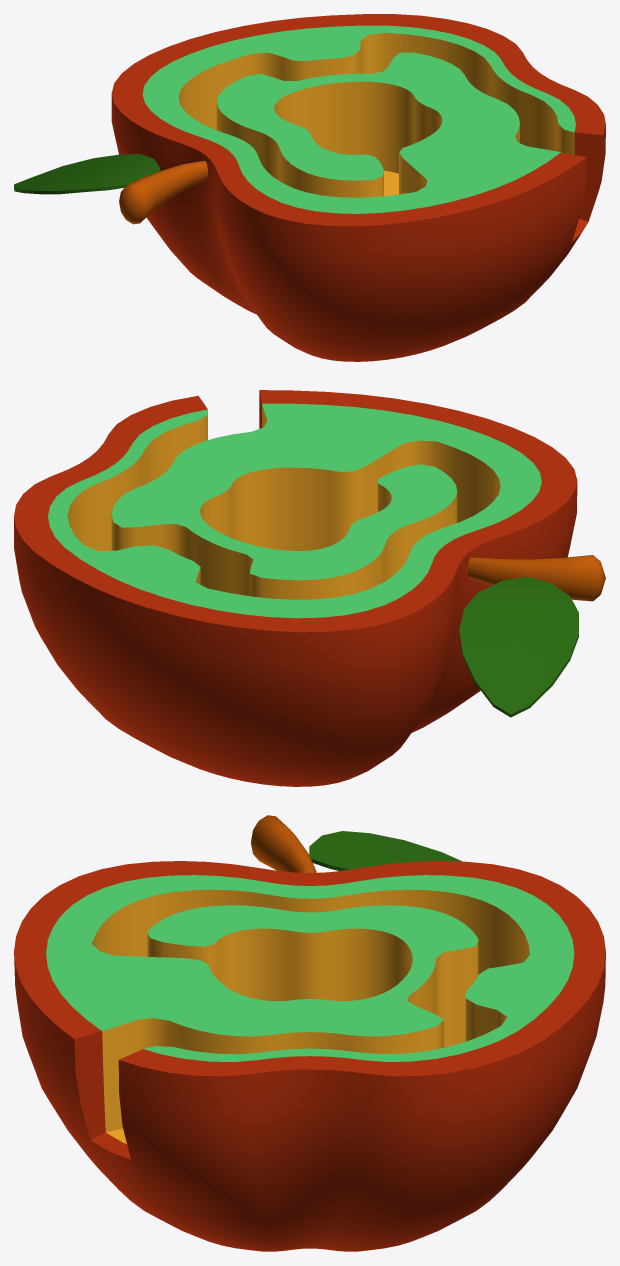
File: apple.FBX
3 views of the same model, one above another, from view 1: azimuth 30°, elevation 25°; view 2: azimuth 150°, elevation 25°; view 3: azimuth 270°, elevation 25° (orthographic). The views are drawn at different scales.
Visible parts, largest first — view 1: Object8259, Object8220, Object8260, Plane001, Line002, Object8258; view 2: Object8259, Object8220, Object8260, Plane001, Line002; view 3: Object8259, Object8220, Object8260, Plane001, Object8258, Line002.
Boxes of the visible parts, bbox=[...] form: Object8259: bbox=[111, 14, 605, 361]; Object8220: bbox=[142, 25, 575, 213]; Object8260: bbox=[178, 33, 574, 197]; Plane001: bbox=[14, 154, 160, 194]; Line002: bbox=[119, 161, 207, 224]; Object8258: bbox=[572, 132, 603, 241]; Object8259: bbox=[14, 390, 577, 786]; Object8220: bbox=[48, 403, 541, 618]; Object8260: bbox=[67, 404, 500, 599]; Plane001: bbox=[459, 577, 578, 717]; Line002: bbox=[467, 555, 605, 601]; Object8259: bbox=[14, 861, 605, 1251]; Object8220: bbox=[46, 875, 574, 1061]; Object8260: bbox=[92, 889, 529, 1143]; Plane001: bbox=[309, 831, 462, 870]; Object8258: bbox=[74, 1031, 130, 1159]; Line002: bbox=[251, 815, 316, 872].
Size of the model in its own units: 226 by 204 by 102.
